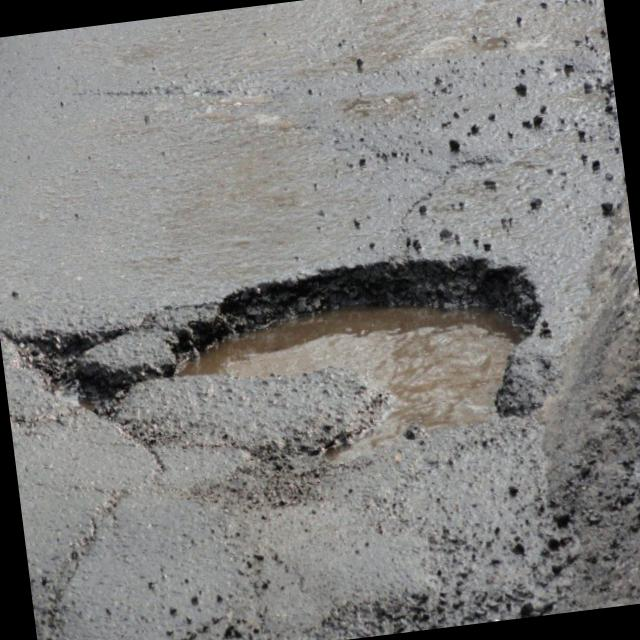Potholes: (9, 210, 584, 546)
